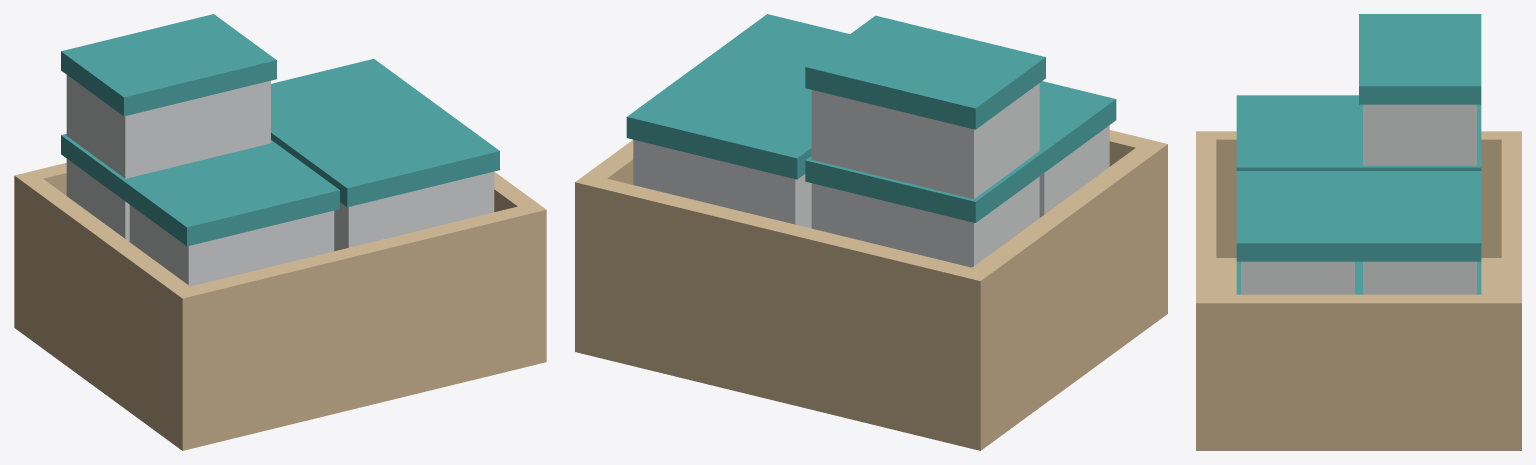
The model's file is chocolate-and-confectionery-factory-crate-of-finished--9bc639d3__36789.glb.
The picture shows the model from 3 angles, left to right: view 1: azimuth 30°, elevation 25°; view 2: azimuth 150°, elevation 25°; view 3: azimuth 270°, elevation 25°; orthographic projection. The views are drawn at different scales.
Parts seen in each view (by area): view 1: crate-of-finished-boxes; view 2: crate-of-finished-boxes; view 3: crate-of-finished-boxes.
Part boxes in pixels (box(x1,y1,x2,y2)): crate-of-finished-boxes: box(14, 14, 546, 450); crate-of-finished-boxes: box(575, 14, 1167, 450); crate-of-finished-boxes: box(1196, 14, 1521, 450).
Size of the model in its own units: 1 by 0.75 by 0.8.
